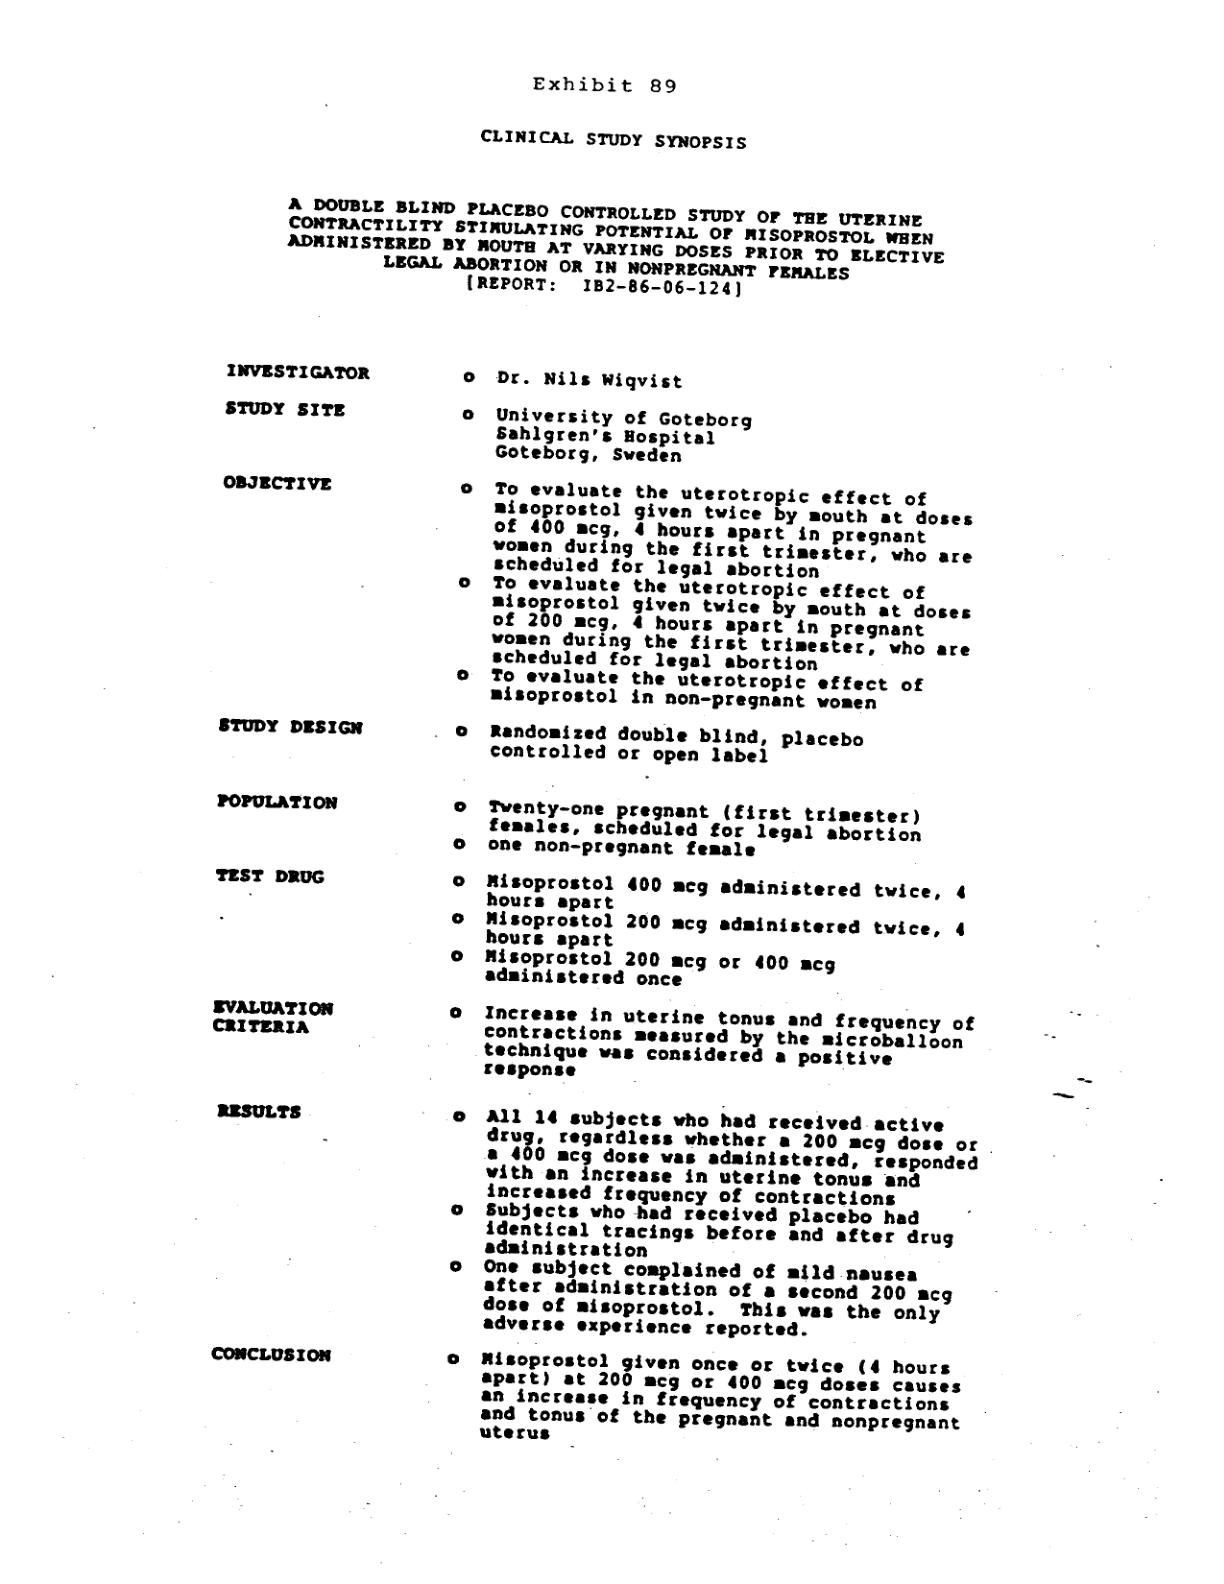nolines: (206, 357, 980, 1444)
